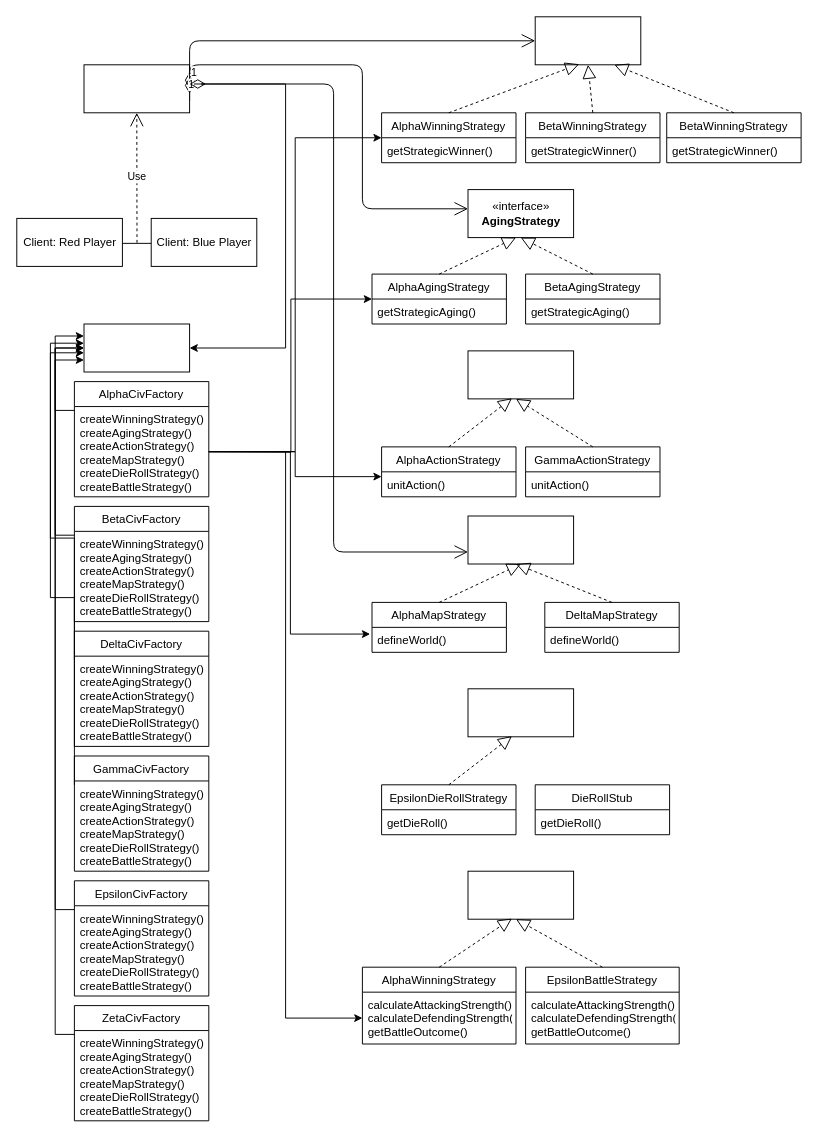
This 818x1140 diagram has some shape labels left out. Each missing label, with the centre of its shape:
Context: GameImpl: the point at 136,88
«interface» ActionStrategy: the point at 520,374
«interface» BattleStrategy: the point at 520,894
«interface» DieRollStrategy: the point at 520,712
«interface» GameImplFactory: the point at 136,347
«interface» MapStrategy: the point at 520,539
«interface» WinningStrategy: the point at 587,40
